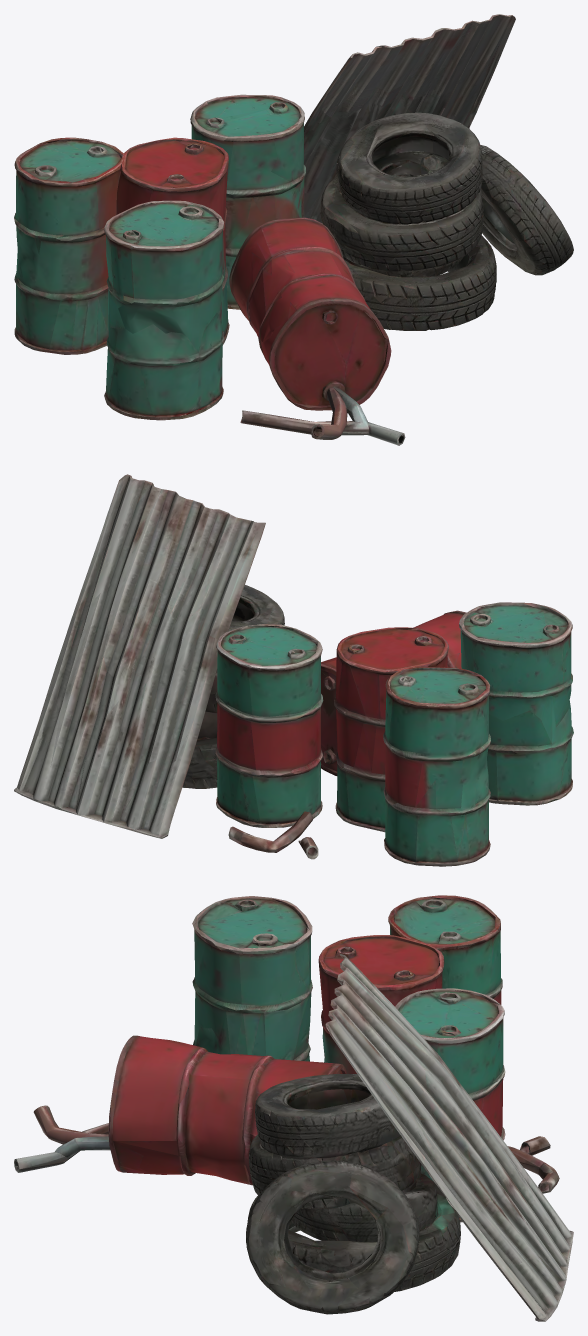
Rendered from barrels.glb.
3 renders of one model, top to bottom at view 1: azimuth 30°, elevation 25°; view 2: azimuth 150°, elevation 25°; view 3: azimuth 270°, elevation 25°, orthographic. The views are drawn at different scales.
Bounding box in the file's own units: 1.9 × 1.01 × 1.78.
1 material, 1 textured.
